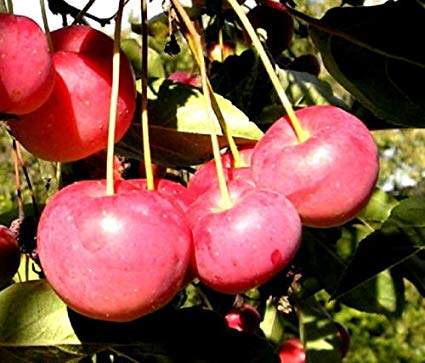apple: (36, 178, 193, 323)
obscured(0)_apple: (251, 105, 379, 229), (193, 187, 301, 294)
